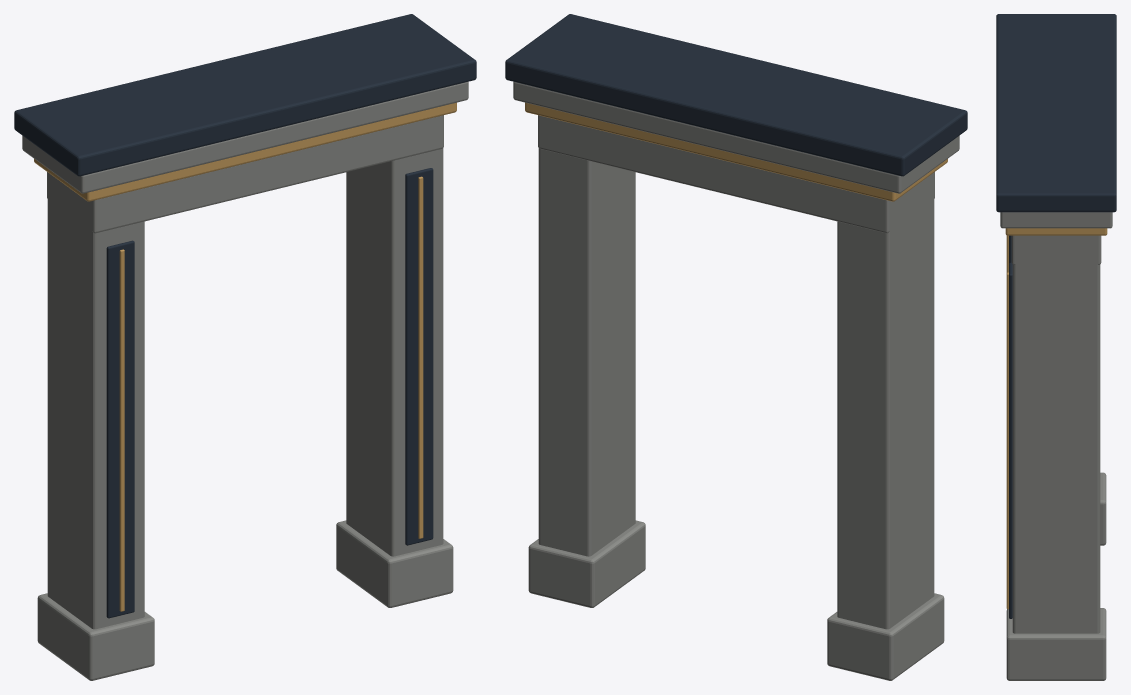
Rendered from DM_Environment_Museum_DoorFrame_A.fbx.
3 views of the same model, side by side, from view 1: azimuth 30°, elevation 25°; view 2: azimuth 150°, elevation 25°; view 3: azimuth 270°, elevation 25° (orthographic). The views are drawn at different scales.
Visible parts, largest first — view 1: DM_Environment_Museum_DoorFrame_A_Delivery_Opaque; view 2: DM_Environment_Museum_DoorFrame_A_Delivery_Opaque; view 3: DM_Environment_Museum_DoorFrame_A_Delivery_Opaque.
Boxes of the visible parts, bbox=[...] form: DM_Environment_Museum_DoorFrame_A_Delivery_Opaque: bbox=[14, 14, 476, 680]; DM_Environment_Museum_DoorFrame_A_Delivery_Opaque: bbox=[505, 14, 967, 680]; DM_Environment_Museum_DoorFrame_A_Delivery_Opaque: bbox=[996, 14, 1116, 680].
Size of the model in its own units: 2.06 by 2.63 by 0.58.
